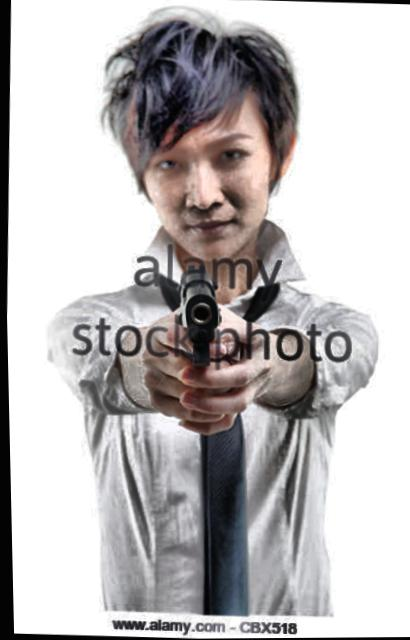pistol: (168, 265, 222, 390)
